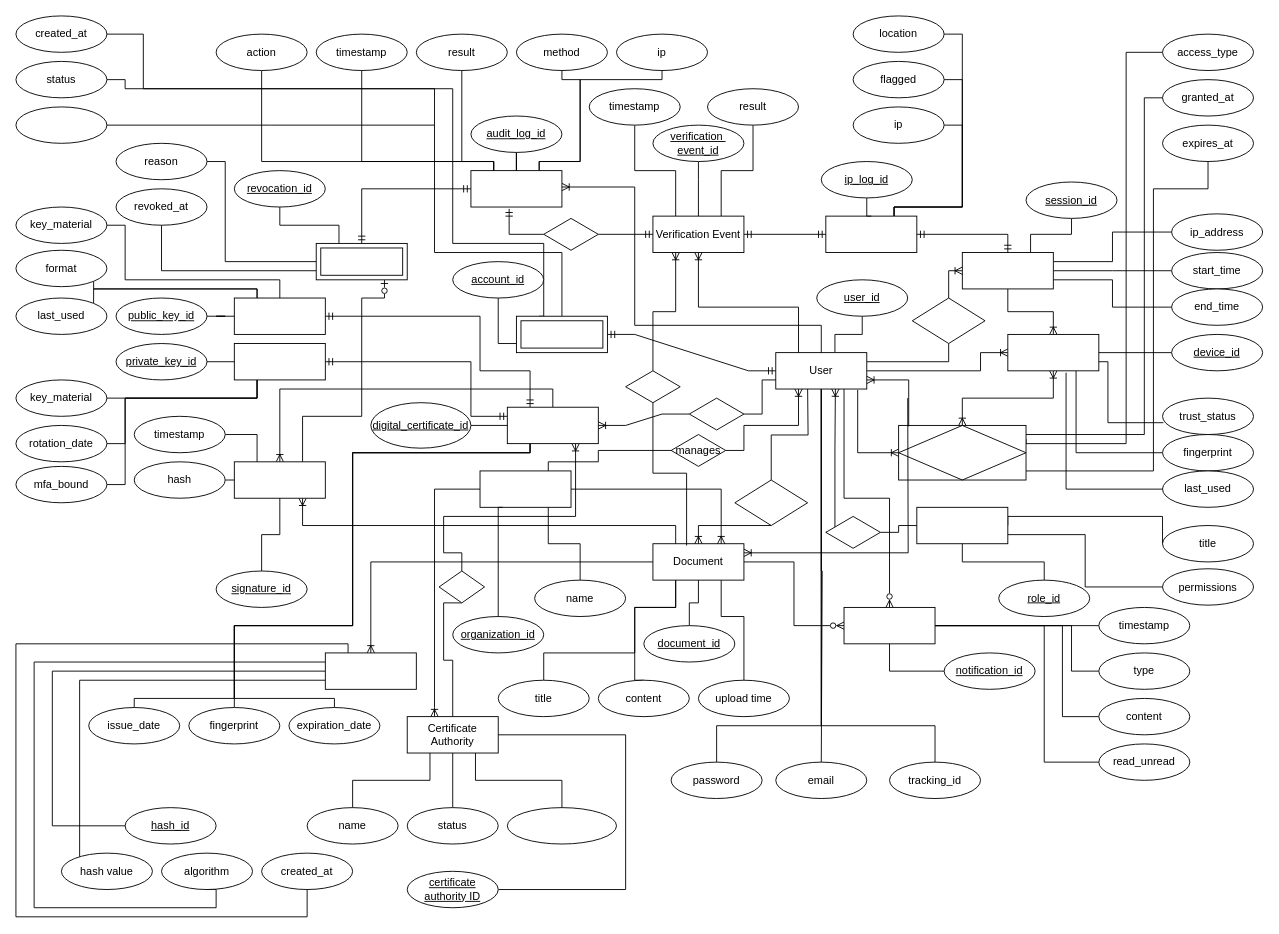
The diagram is 1279 pixels wide and 934 high, and some of its shapes have lost their labels. Each missing label, with the centre of its shape:
Access Control Entry: (x=962, y=452)
Account: (x=561, y=334)
Audit Log: (x=516, y=188)
authority_ public_key: (x=561, y=825)
creates: (x=771, y=502)
Device: (x=1053, y=352)
Digital Certificate: (x=552, y=425)
has a: (x=852, y=532)
Hash Record: (x=370, y=670)
initiates: (x=948, y=320)
IP Address Log: (x=871, y=234)
issues: (x=461, y=586)
Notification: (x=889, y=625)
Organization: (x=525, y=488)
owns: (x=716, y=413)
Private Key: (x=279, y=361)
Public Key: (x=279, y=315)
records: (x=570, y=233)
Role: (x=962, y=525)
Session: (x=1007, y=270)
Signature: (x=279, y=479)
Signature Revocation: (x=361, y=261)
validated: (x=61, y=124)
verifies: (x=652, y=386)
